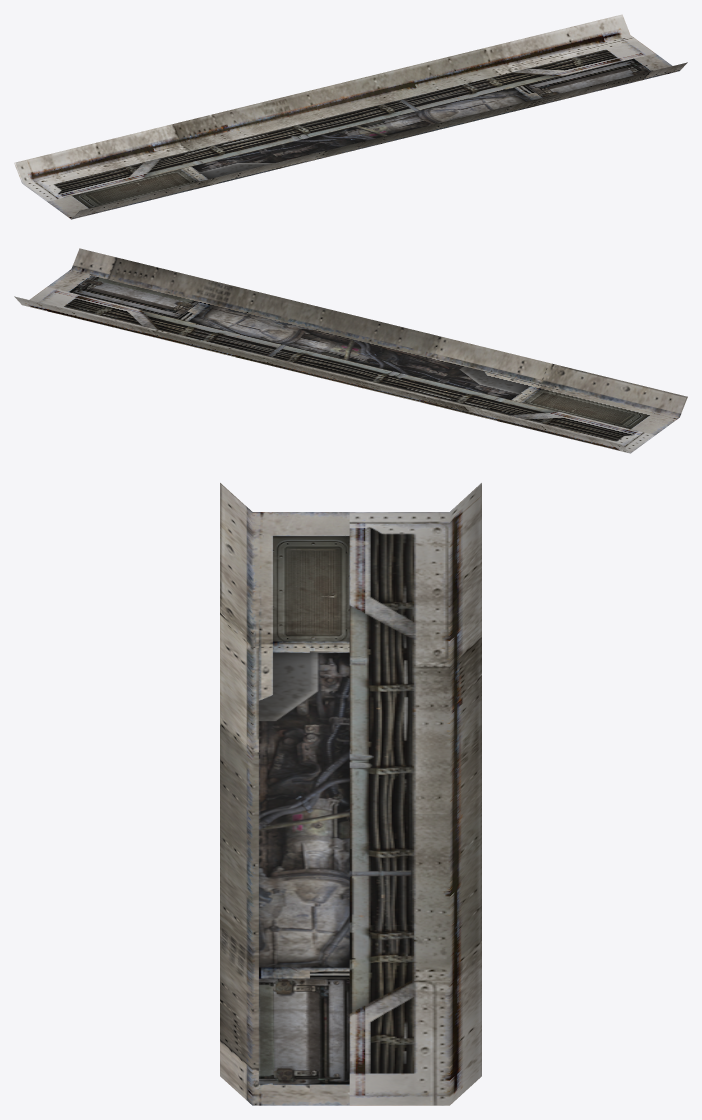
File: ARC_CeilingHigh_Single_Strip.FBX
3 renders of one model, top to bottom at view 1: azimuth 30°, elevation 25°; view 2: azimuth 150°, elevation 25°; view 3: azimuth 270°, elevation 25°, orthographic. The views are drawn at different scales.
Visible parts, largest first — view 1: ARC_CeilingHigh_Single_Strip; view 2: ARC_CeilingHigh_Single_Strip; view 3: ARC_CeilingHigh_Single_Strip.
Boxes of the visible parts, left/top/right/bottom form: ARC_CeilingHigh_Single_Strip: left=14, top=14, right=687, bottom=219; ARC_CeilingHigh_Single_Strip: left=14, top=248, right=687, bottom=453; ARC_CeilingHigh_Single_Strip: left=220, top=483, right=481, bottom=1105.
Size of the model in its own units: 550 by 12.75 by 103.
Materials: 1 (1 with a texture image).
